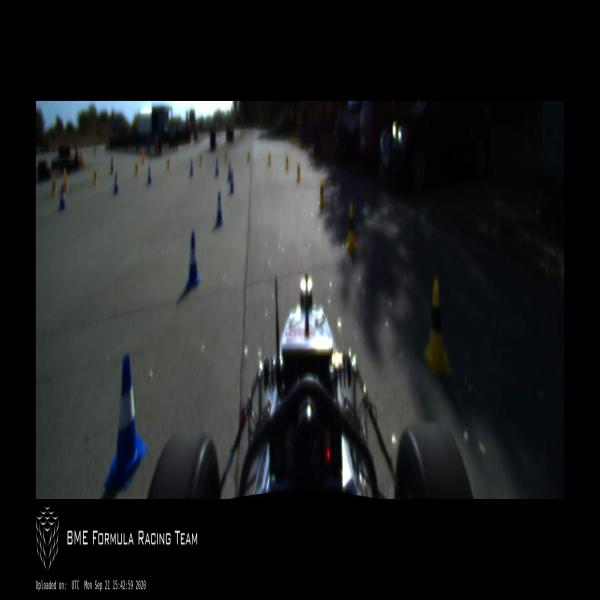blue_cone: (103, 354, 148, 491), (184, 228, 201, 291), (214, 188, 224, 226), (59, 186, 66, 210), (229, 171, 234, 194), (113, 172, 118, 194), (147, 163, 152, 184), (189, 158, 194, 176), (214, 159, 219, 177), (227, 164, 231, 182)
orange_cone: (62, 169, 68, 191), (110, 156, 114, 174), (140, 148, 144, 163)
yellow_cone: (423, 276, 452, 376), (345, 201, 358, 253), (319, 177, 326, 208), (296, 161, 301, 184), (284, 150, 289, 172), (52, 175, 57, 196), (267, 150, 272, 168), (246, 146, 251, 164), (93, 167, 97, 185), (199, 150, 203, 166), (166, 154, 170, 170), (224, 150, 228, 164), (134, 162, 138, 176)
